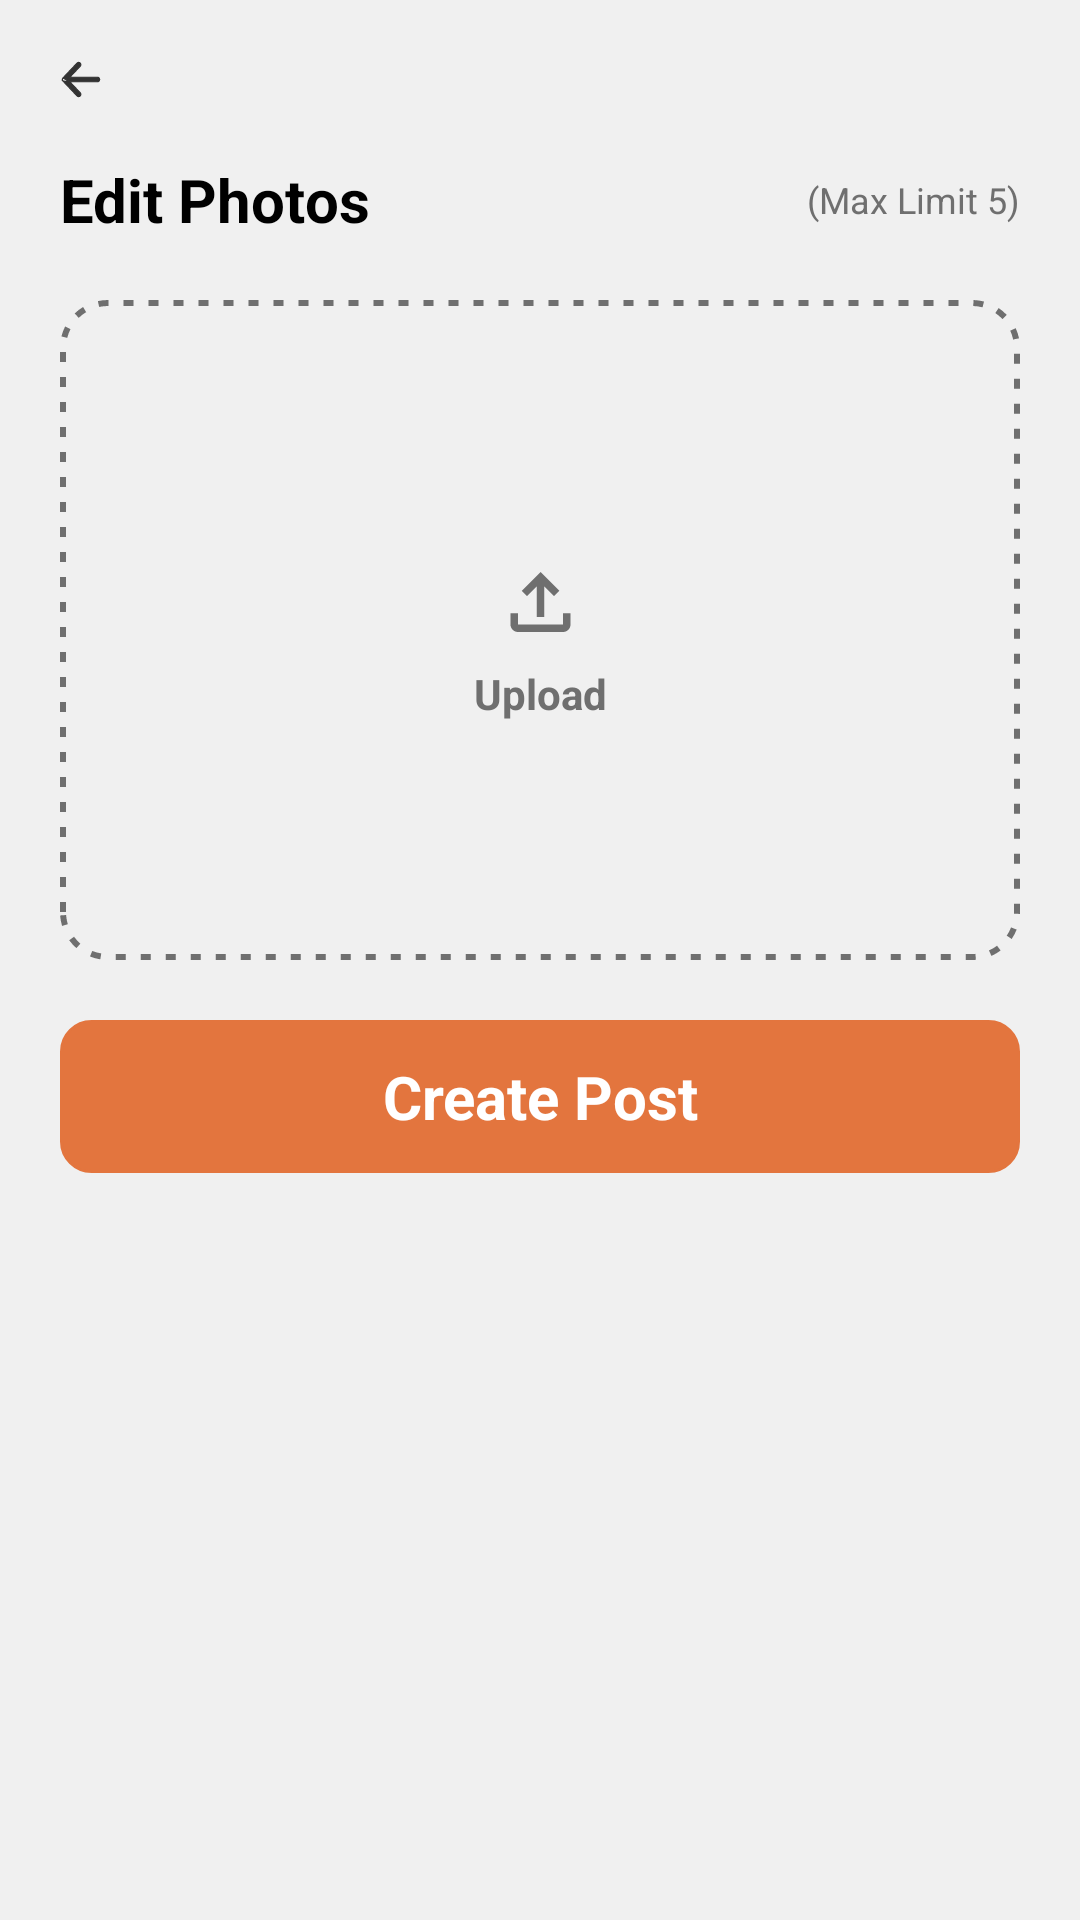

Icon click points for this 1080px×1920px phone screenshot, format [x,y]:
back: [81,79]
